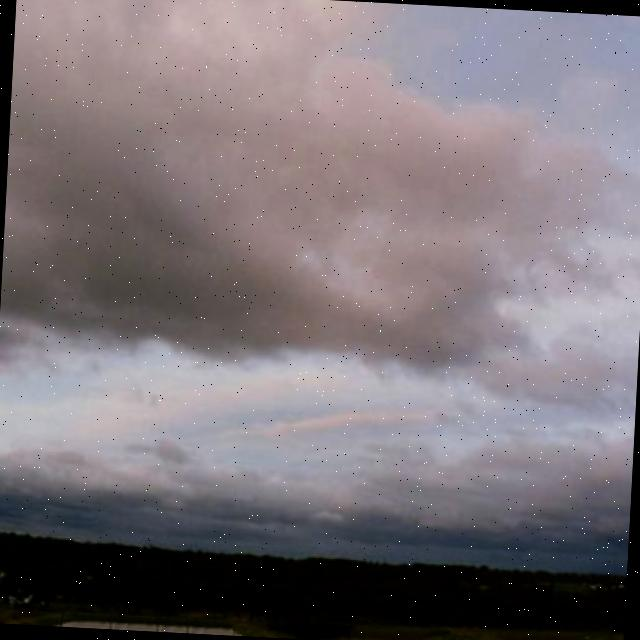St: (1, 1, 640, 421)
